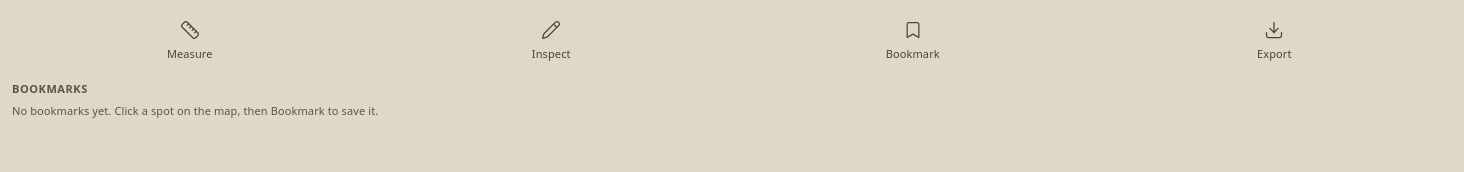
Scenario: Bookmark tool › confirms with a toast and lists the bookmark under the tools
Expected: the text "No bookmarks yet" is shown, [12,103,378,118]
Click the button "Bookmark" at (913, 40), box [735,12,1090,69]
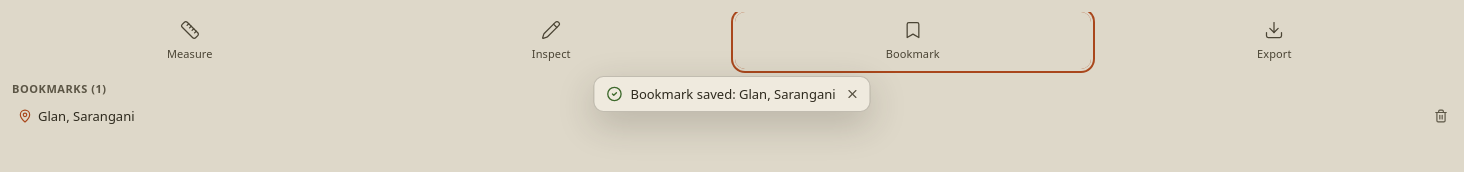
Expected: the element showing "Bookmark saved: Glan, Sarangani" is shown, [593,76,870,112]
Expected: the button "Glan, Sarangani" is shown, [12,103,1426,129]
